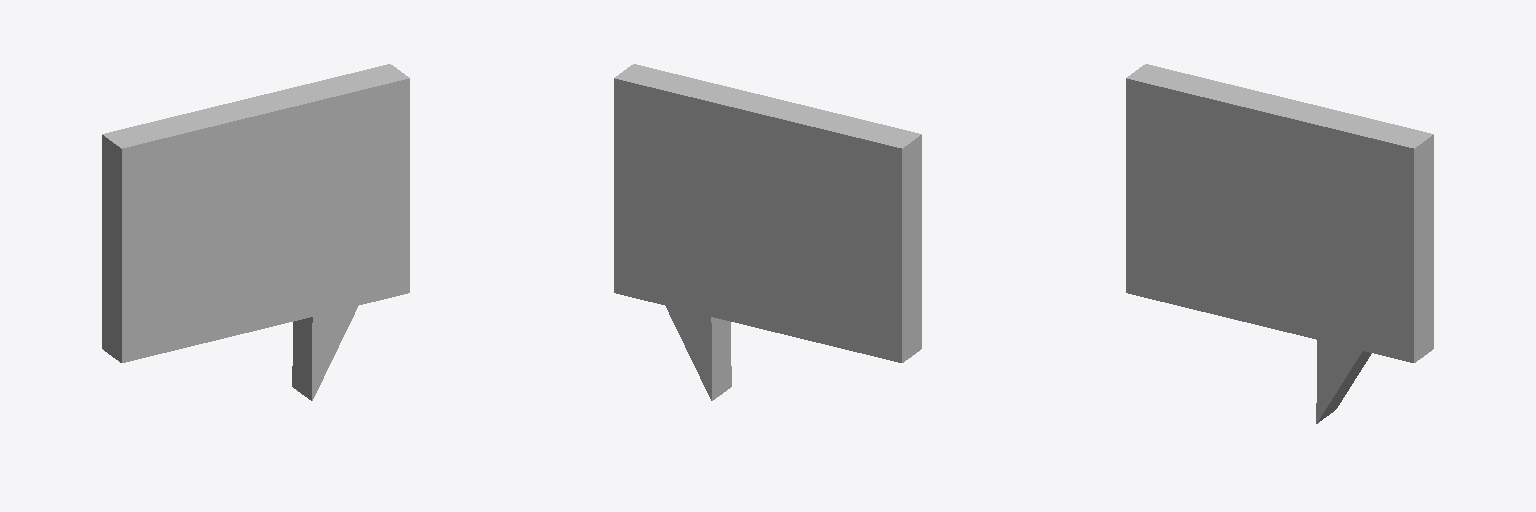
File: chat.obj
3 views of the same model, side by side, from view 1: azimuth 30°, elevation 25°; view 2: azimuth 150°, elevation 25°; view 3: azimuth 330°, elevation 25° (orthographic).
Visible parts, largest first — view 1: Cube; view 2: Cube; view 3: Cube.
Boxes of the visible parts, box(x1,y1,x2,y2) form: Cube: box(102, 64, 409, 400); Cube: box(614, 64, 921, 400); Cube: box(1126, 64, 1433, 423).
Bounding box in the file's own units: 2 × 1.98 × 0.238.